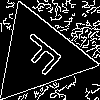F: (14, 30, 72, 83)
